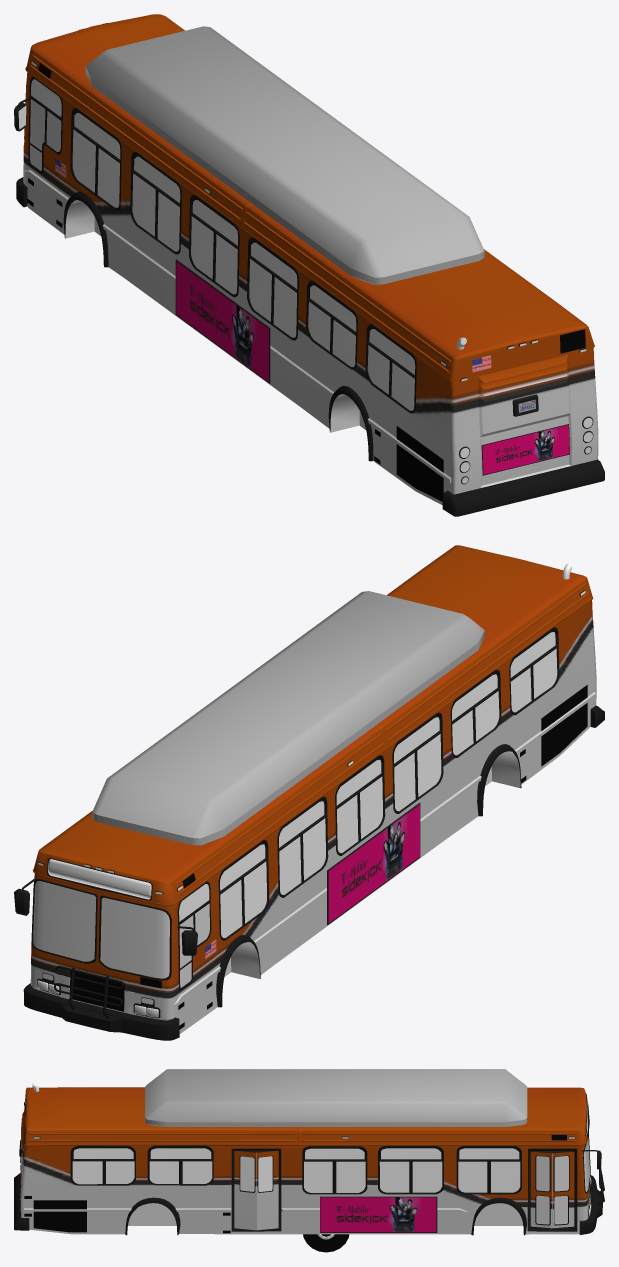
Rendered from MCLA_VA_CITYBUS_TMOB1_07.glb.
The picture shows the model from 3 angles, top to bottom: view 1: azimuth 30°, elevation 25°; view 2: azimuth 150°, elevation 25°; view 3: azimuth 270°, elevation 25°; orthographic projection. The views are drawn at different scales.
Visible parts, largest first — view 1: va_citybus_tmob1_07/resources/vehicle/va_citybus_tmob1_07/bo; view 2: va_citybus_tmob1_07/resources/vehicle/va_citybus_tmob1_07/bo; view 3: va_citybus_tmob1_07/resources/vehicle/va_citybus_tmob1_07/bo.
Boxes of the visible parts, bbox=[...] form: va_citybus_tmob1_07/resources/vehicle/va_citybus_tmob1_07/bo: bbox=[14, 14, 604, 516]; va_citybus_tmob1_07/resources/vehicle/va_citybus_tmob1_07/bo: bbox=[14, 545, 604, 1040]; va_citybus_tmob1_07/resources/vehicle/va_citybus_tmob1_07/bo: bbox=[14, 1069, 604, 1252].
Bounding box in the file's own units: 2.93 × 4.19 × 13.77.
Materials: 12 (8 with a texture image).
